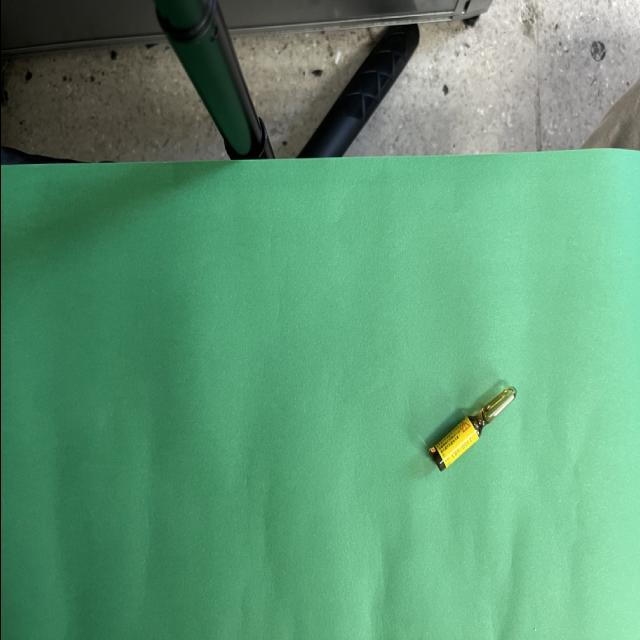Ampoules: (428, 386, 516, 471)
